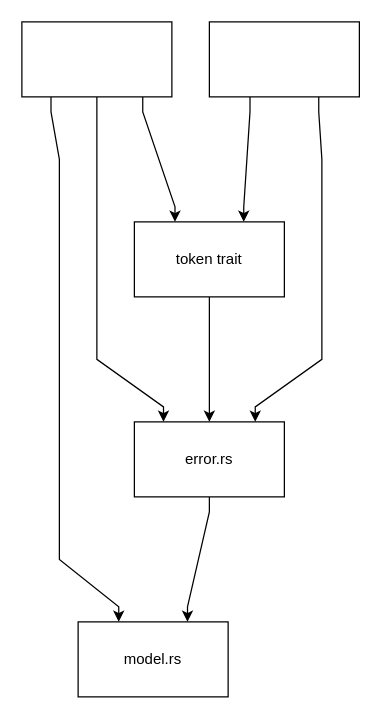
This 381x719 diagram has some shape labels left out. Each missing label, with the box of its shape:
api.rs: (21, 21, 172, 97)
token.rs: (208, 21, 359, 97)
